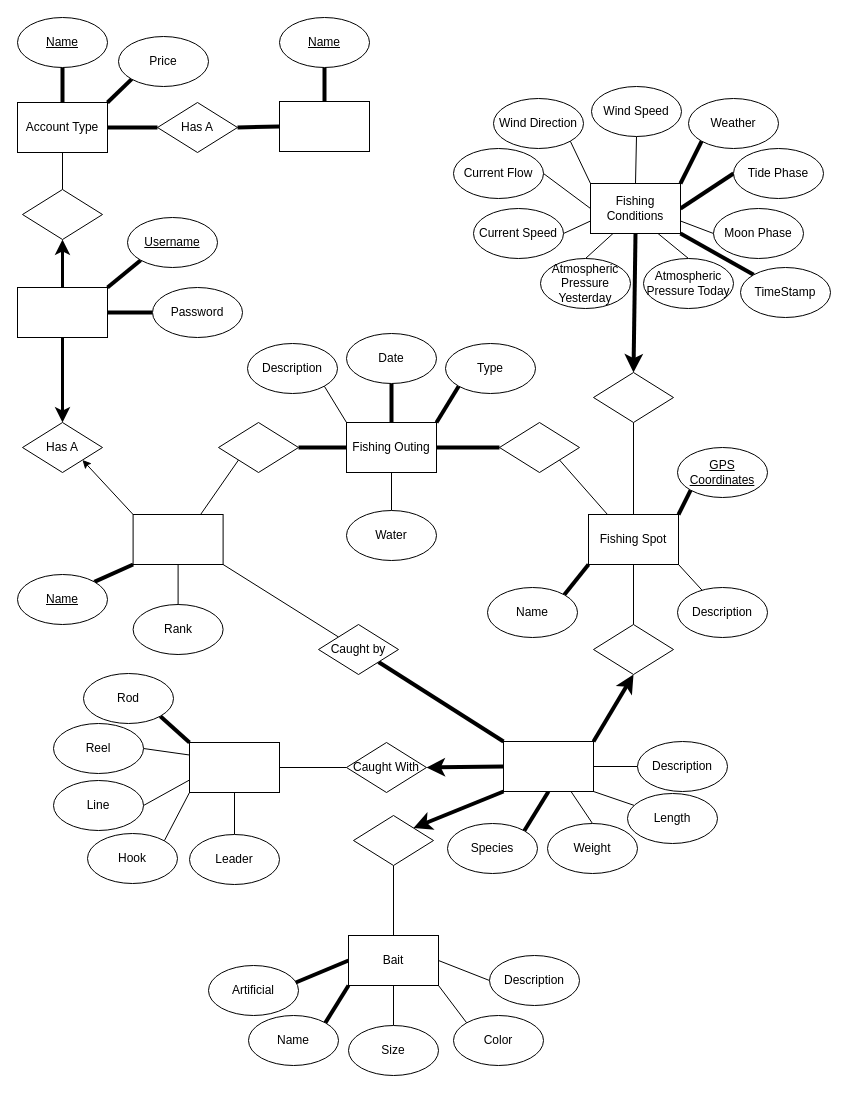
The diagram is 848 pixels wide and 1093 high, and some of its shapes have lost their labels. Each missing label, with the centre of its shape:
"Angler" belongs at point (177, 539).
"Attends" belongs at point (258, 447).
"Caught At" belongs at point (633, 649).
"Caught On" belongs at point (393, 840).
"Fish" belongs at point (548, 766).
"Fished" belongs at point (539, 447).
"Fishing Gear" belongs at point (234, 767).
"Has" belongs at point (633, 397).
"Has An" belongs at point (62, 214).
"Priveledge" belongs at point (324, 126).
"User Account" belongs at point (62, 312).
